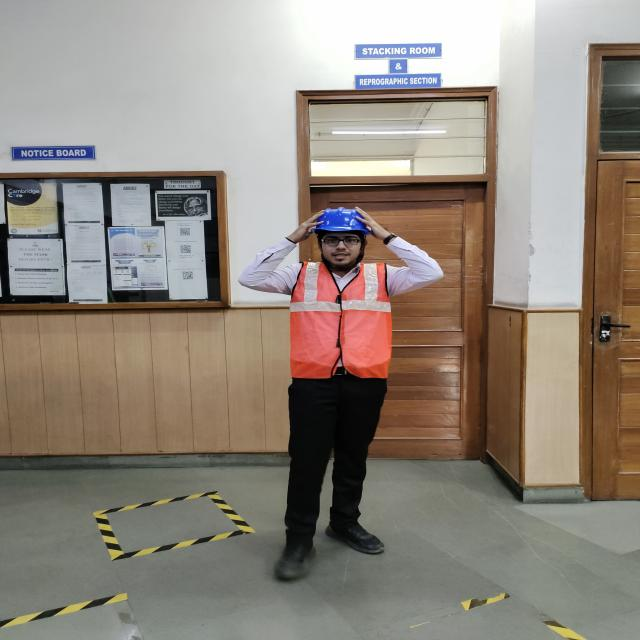safe: (238, 207, 444, 554)
